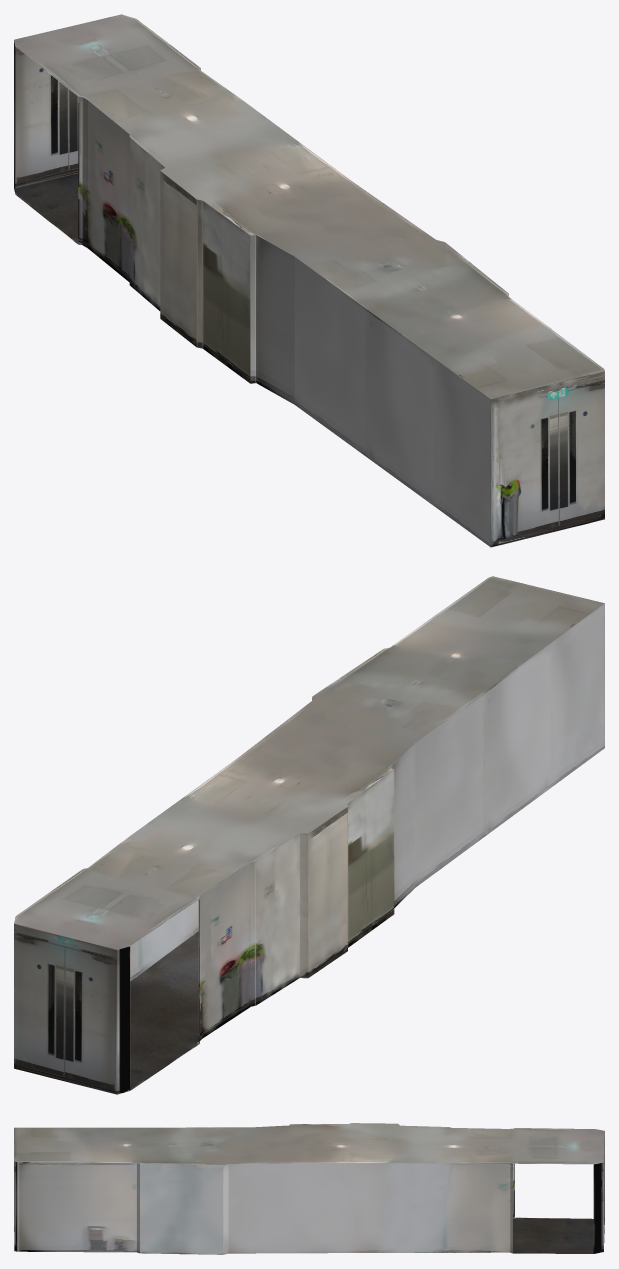
The model's file is dean-corr-lp.fbx.
3 renders of one model, top to bottom at view 1: azimuth 30°, elevation 25°; view 2: azimuth 150°, elevation 25°; view 3: azimuth 270°, elevation 25°, orthographic. The views are drawn at different scales.
Parts seen in each view (by area): view 1: dean-corr-lp; view 2: dean-corr-lp; view 3: dean-corr-lp.
Boxes of the visible parts, x1,y1,x2,y2 form: dean-corr-lp: (14, 14, 604, 547); dean-corr-lp: (14, 576, 604, 1094); dean-corr-lp: (14, 1123, 604, 1254).
Bounding box in the file's own units: 228 × 227 × 1353.
1 material, 1 textured.
